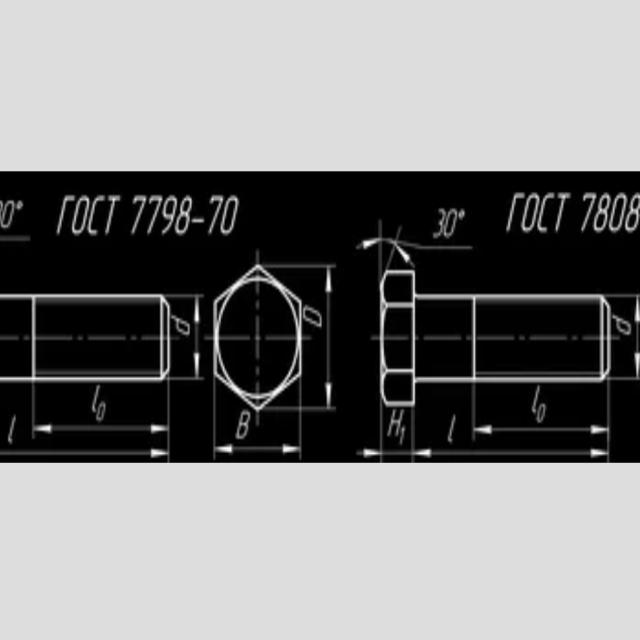marking_line: (357, 448, 609, 465), (321, 270, 334, 406), (477, 426, 606, 438), (32, 425, 171, 436), (215, 444, 300, 456), (193, 301, 203, 372)
numeric: (433, 208, 460, 240)
